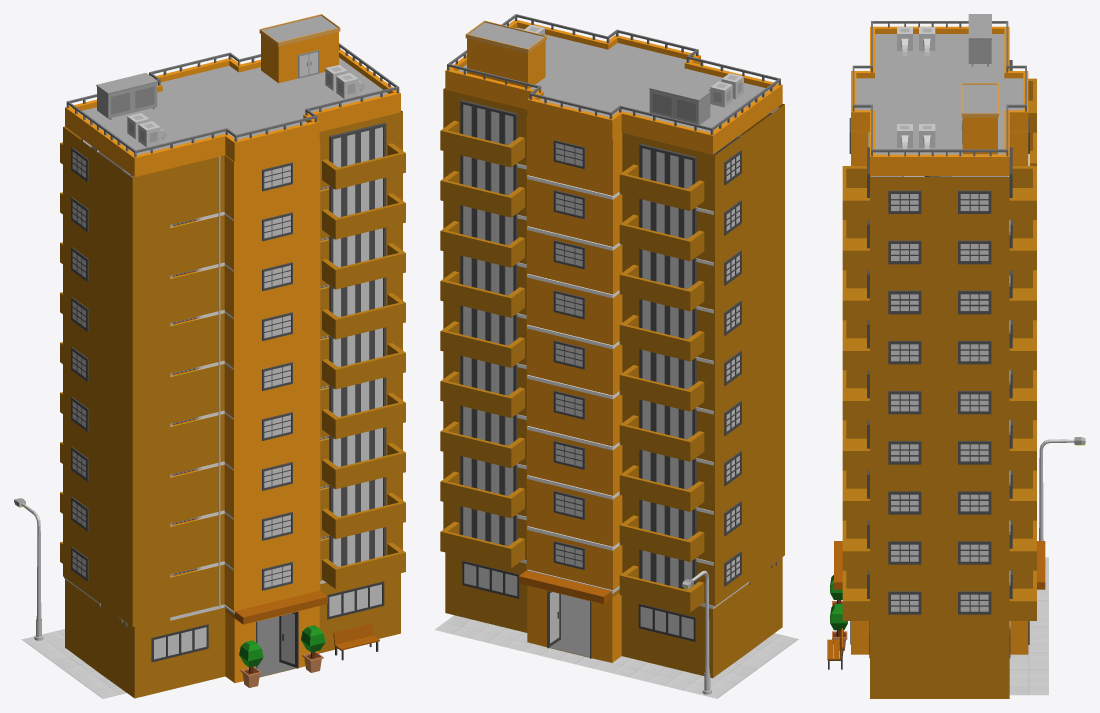
Rendered from FIXED_BUILDING.fbx.
The picture shows the model from 3 angles, left to right: view 1: azimuth 30°, elevation 25°; view 2: azimuth 150°, elevation 25°; view 3: azimuth 270°, elevation 25°; orthographic projection.
Parts seen in each view (by area): view 1: Floor.001, Cube.003, Base.005, Cube, Plane.131, Cube.028, Bench, Pole.026; view 2: Floor.001, Cube.003, Base.005, Plane.131, Cube, Pole.026; view 3: Floor.001, Cube.003, Base.005, Plane.131, Pole.026, Bench.
Boxes of the visible parts, x1,y1,x2,y2 form: Floor.001: (60,110,405,626); Cube.003: (65,14,400,177); Base.005: (65,573,400,698); Cube: (170,186,329,577); Plane.131: (21,629,126,698); Cube.028: (218,156,220,607); Bench: (333,623,379,660); Pole.026: (14,498,43,640); Floor.001: (440,88,784,612); Cube.003: (445,14,782,154); Base.005: (445,552,782,678); Plane.131: (434,615,798,698); Cube: (516,163,713,565); Pole.026: (682,570,711,694); Floor.001: (842,60,1036,627); Cube.003: (851,14,1028,175); Base.005: (834,541,1045,698); Plane.131: (1009,557,1048,695); Pole.026: (1039,437,1085,563); Bench: (827,628,843,669).
Bounding box in the file's own units: 1667 × 3137 × 1266.
